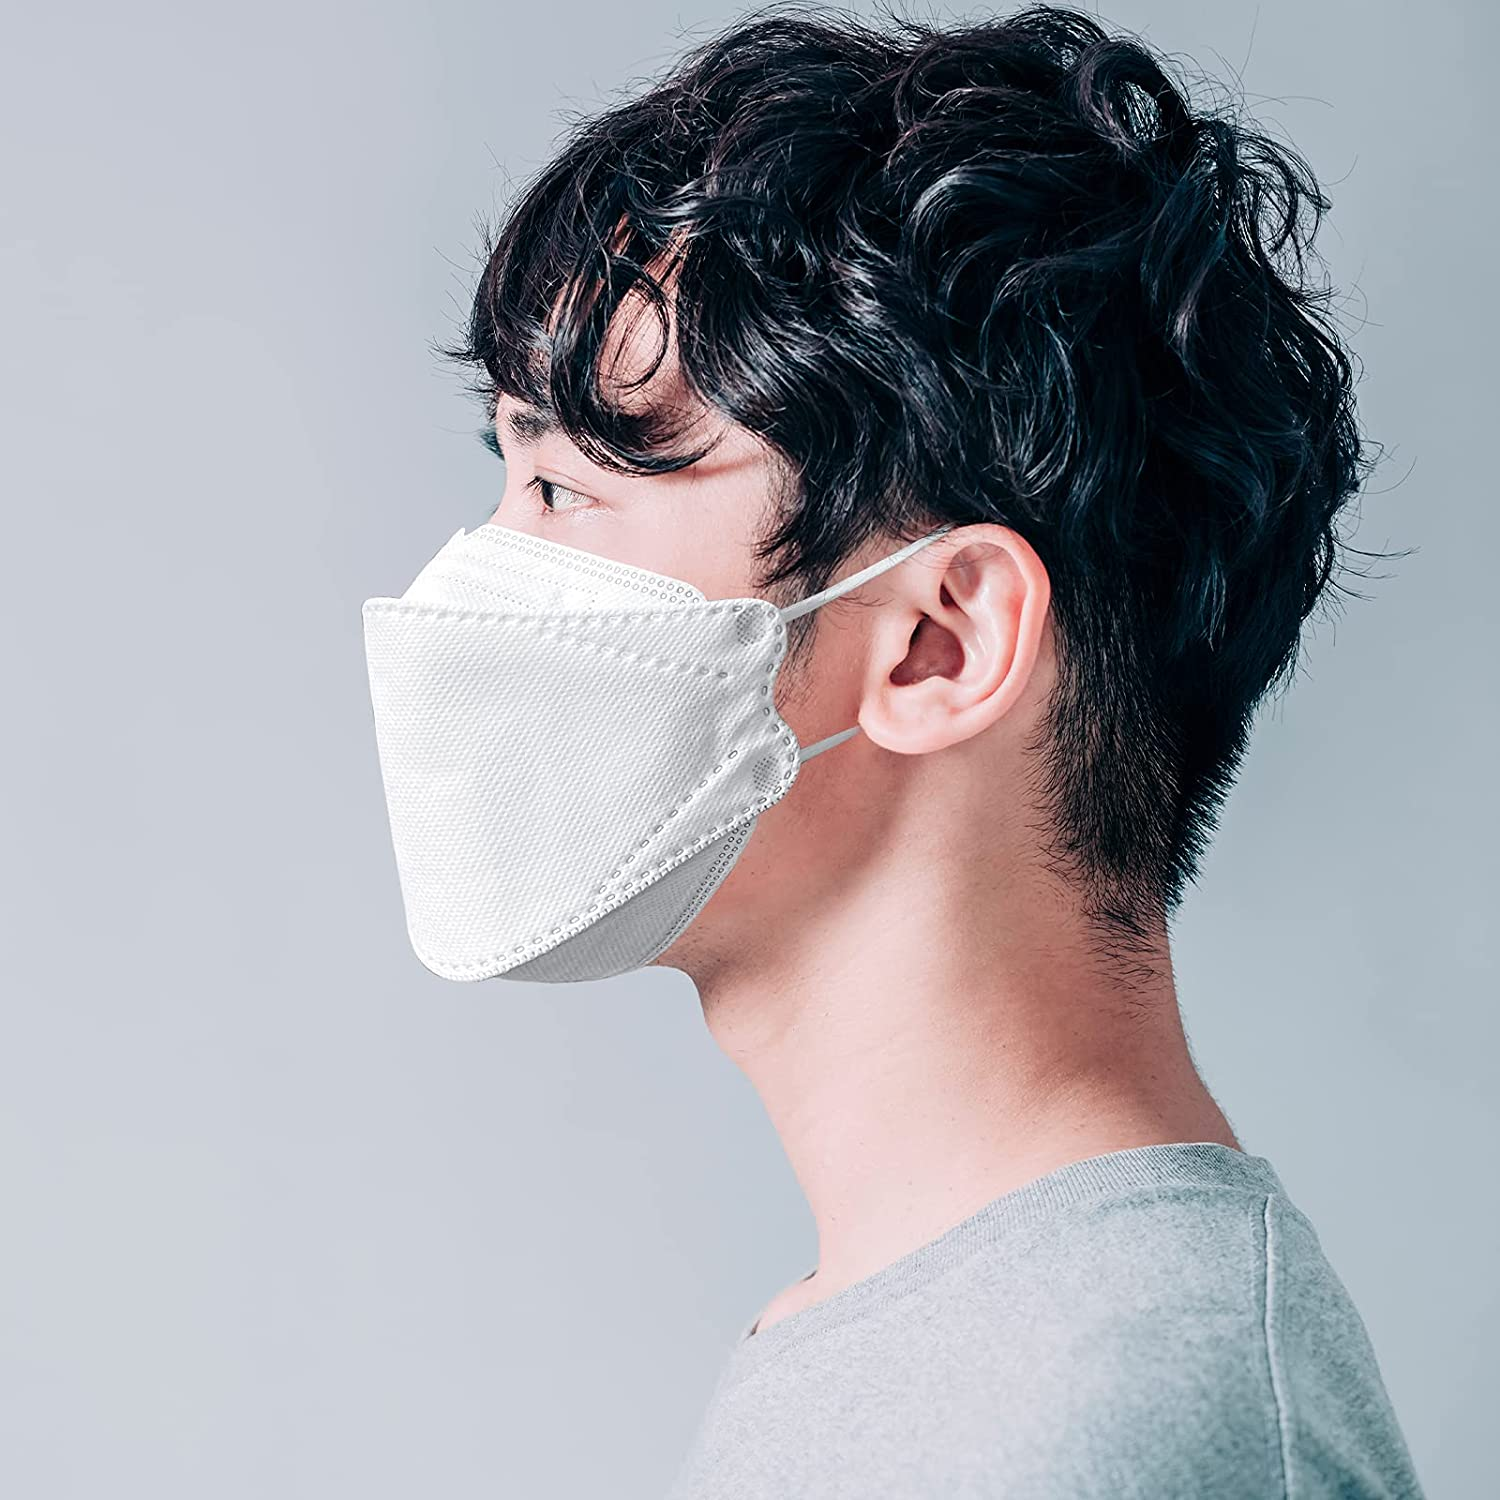male: (352, 1, 1434, 1500)
